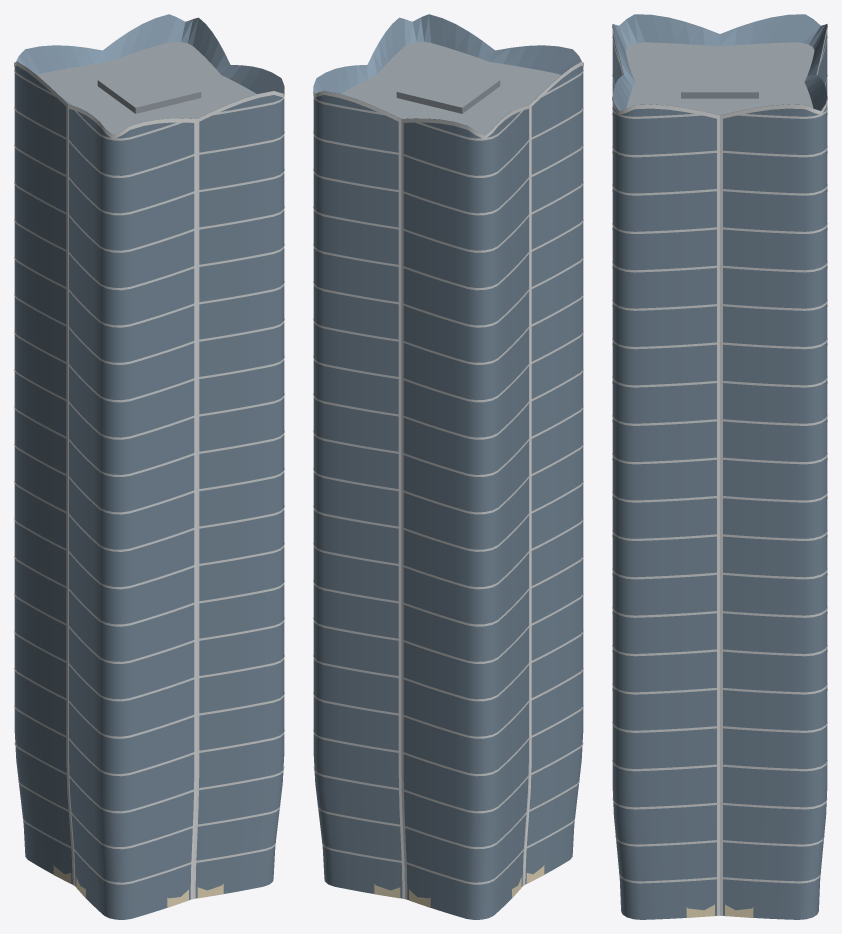
Rendered from tokyo-azabudai-hills-mori-jp-tower.glb.
3 views of the same model, side by side, from view 1: azimuth 30°, elevation 25°; view 2: azimuth 150°, elevation 25°; view 3: azimuth 270°, elevation 25° (orthographic). The views are drawn at different scales.
Parts seen in each view (by area): view 1: Azabudai Hills Mori JP Tower; view 2: Azabudai Hills Mori JP Tower; view 3: Azabudai Hills Mori JP Tower.
Part boxes in pixels (<box>): Azabudai Hills Mori JP Tower: <box>14,14,284,919</box>; Azabudai Hills Mori JP Tower: <box>313,14,583,919</box>; Azabudai Hills Mori JP Tower: <box>612,14,827,919</box>.
Size of the model in its own units: 77.7 by 325 by 77.7.
